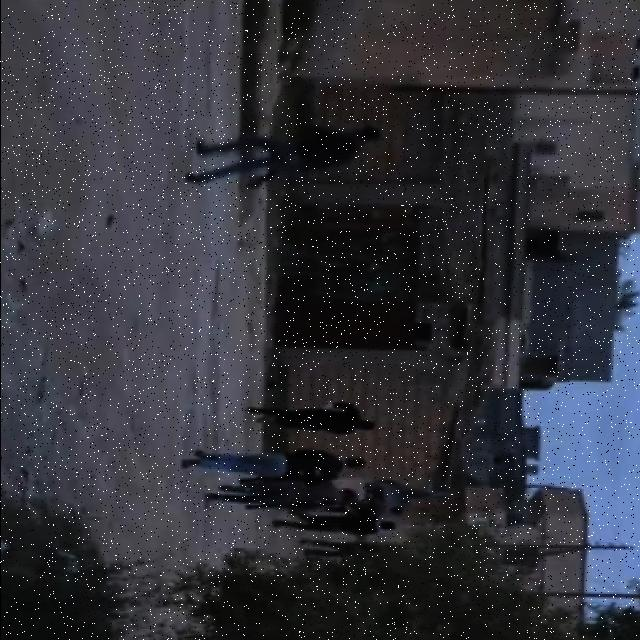Rifle: (243, 501, 343, 511), (237, 474, 308, 484), (246, 168, 277, 189)
